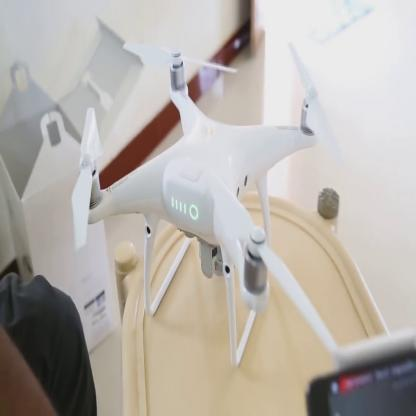drone: (64, 28, 362, 358)
